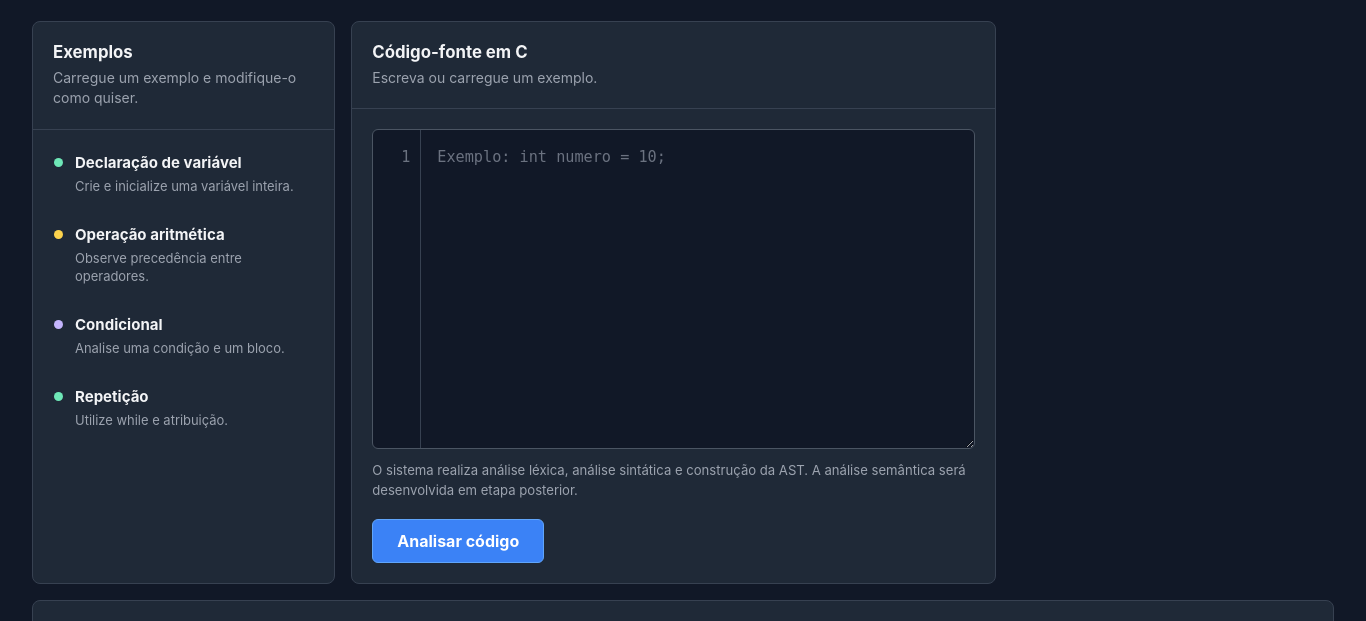
Scenario: App › exibe erros léxicos e informa que o parser não foi executado
Type "int @numero = 10;" into the text box named "Editor de código-fonte em C" at (698, 289), box [421,130,974,448]
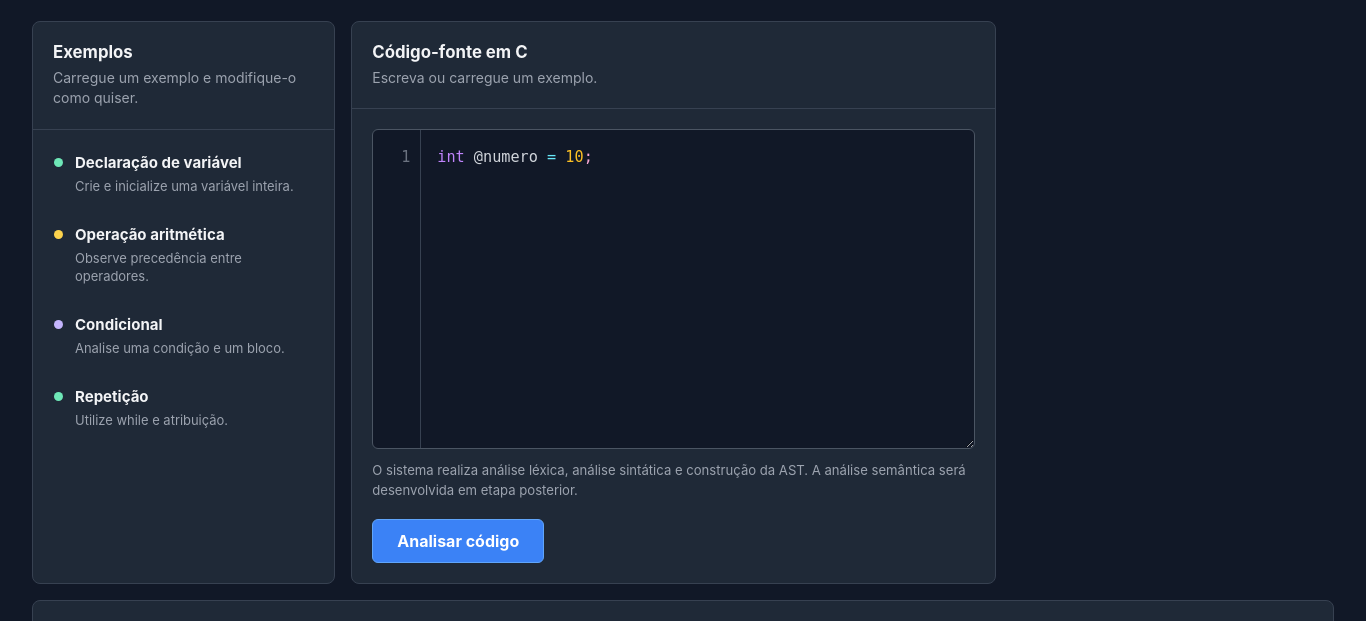
Click the button "Analisar código" at (458, 541), box [372,519,544,563]
(page scrolled)
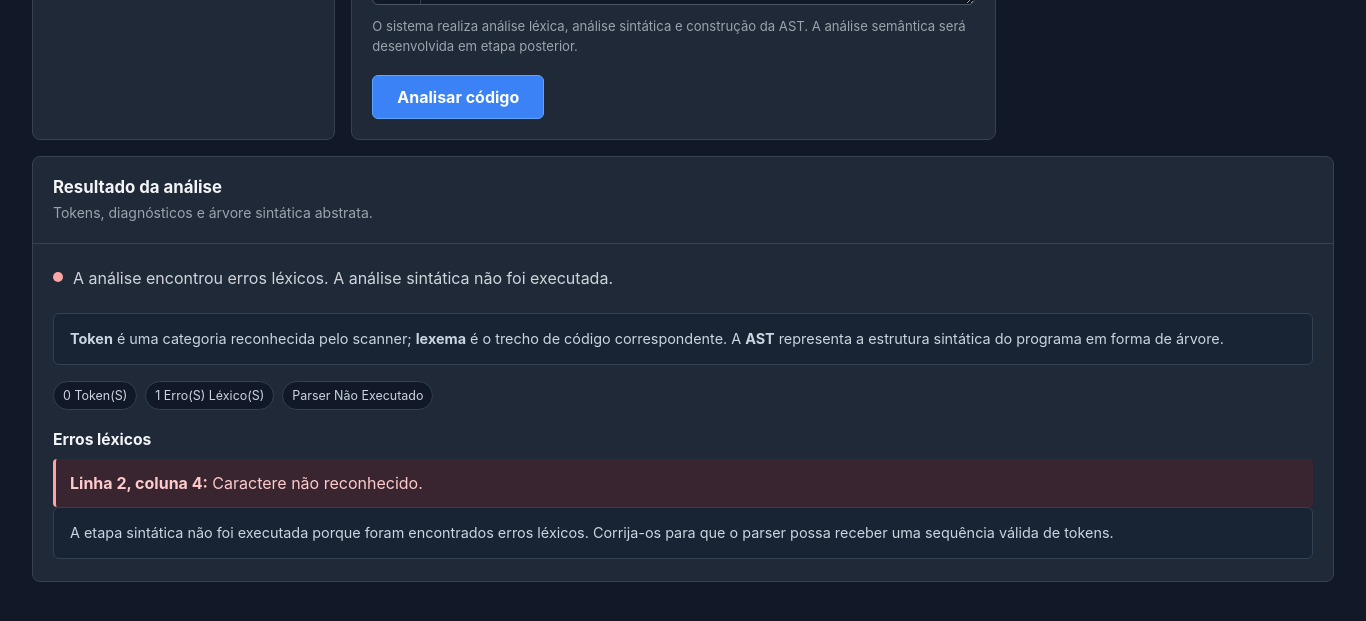
expect the heading "Erros léxicos" is shown: met, box [53,430,151,449]
expect the text "Linha 2, coluna 4:" is shown: met, box [70,473,208,493]
expect the text "parser possa receber uma sequência válida de tokens" is shown: met, box [70,524,1114,541]
